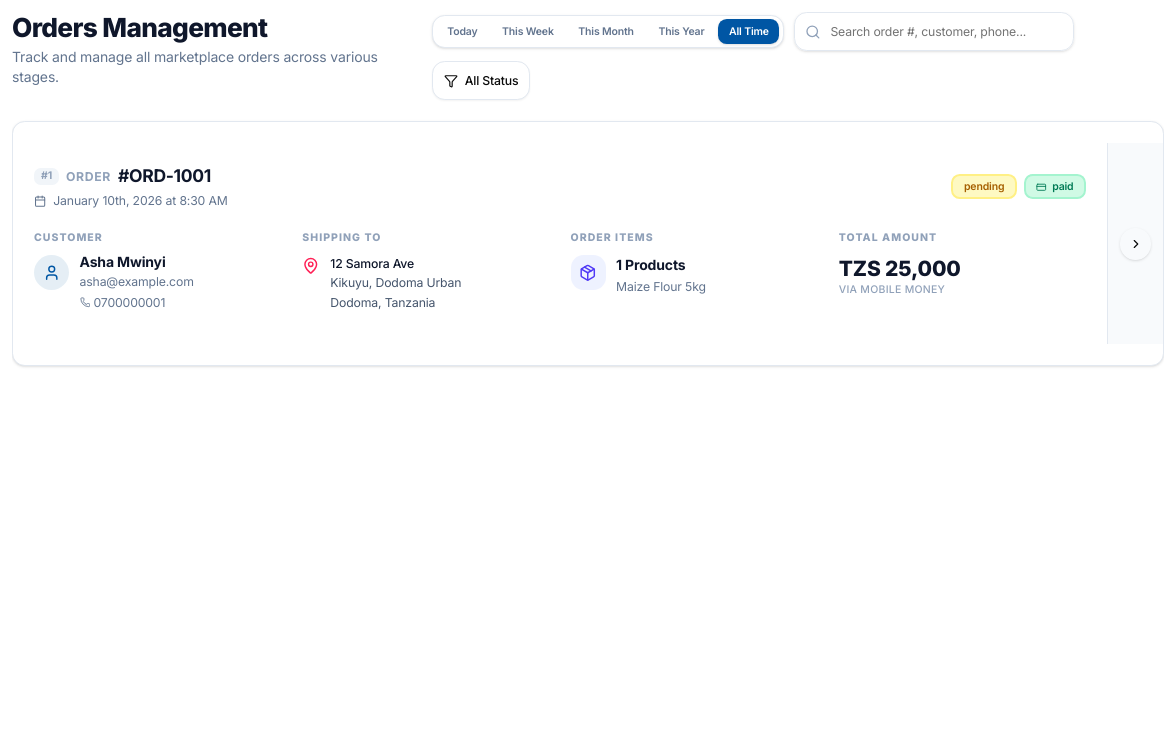
Test: OrdersManagementTab › clears the search query when 'Clear all filters' is clicked
Type "no-such-order" into the field with placeholder "Search order #, customer, phone..." at coordinates (934, 32), box [794,12,1074,51]
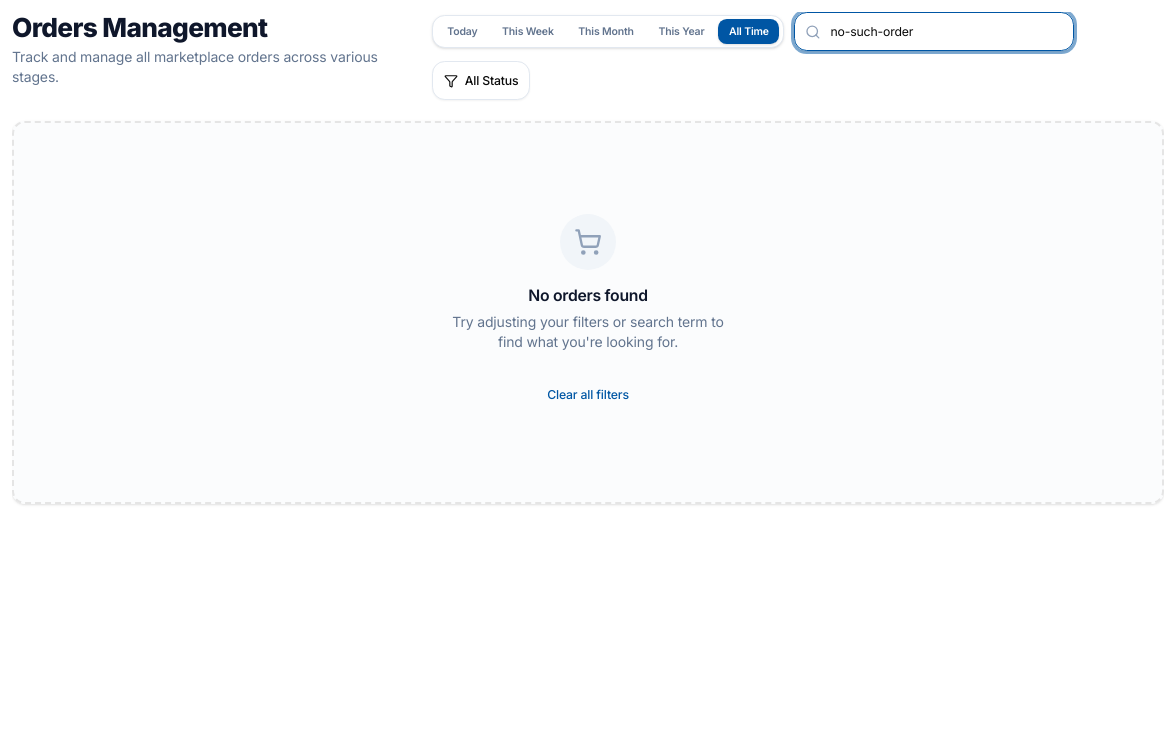
Click the button "Clear all filters" at coordinates (588, 395), box [533,379,643,411]
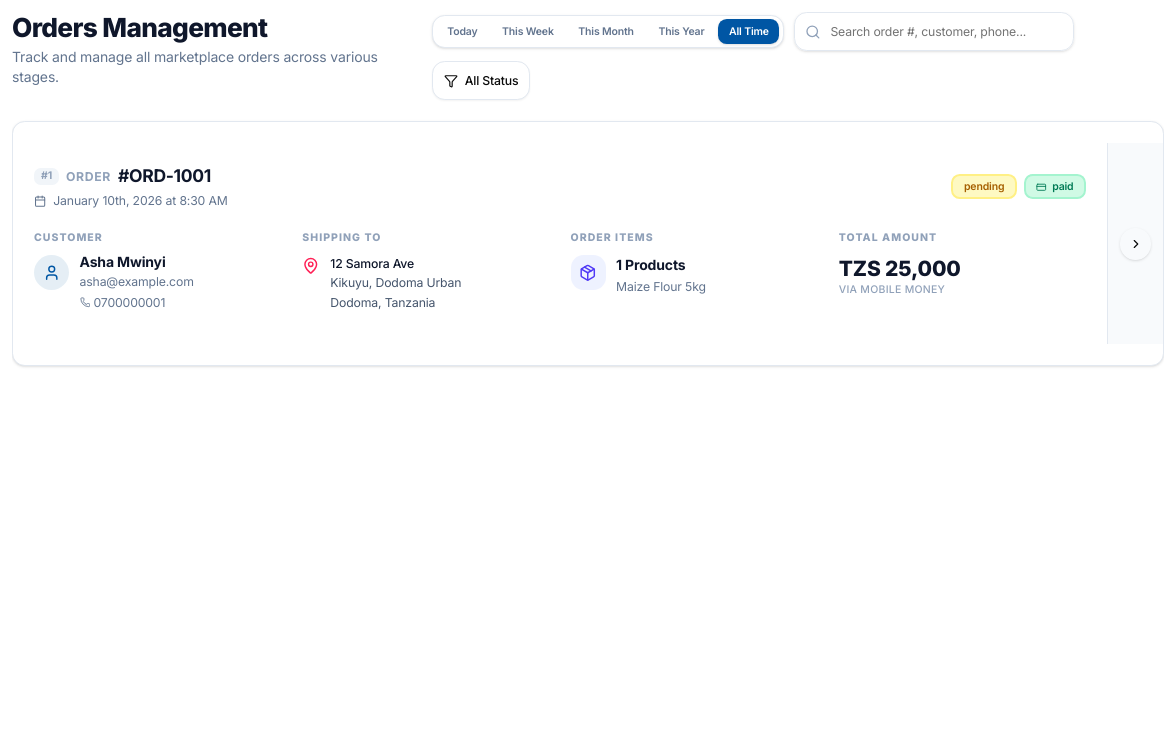
Now the heading "#ORD-1001" is shown, box [118,164,211,189]
Now the field with placeholder "Search order #, customer, phone..." is empty, box [794,12,1074,51]
